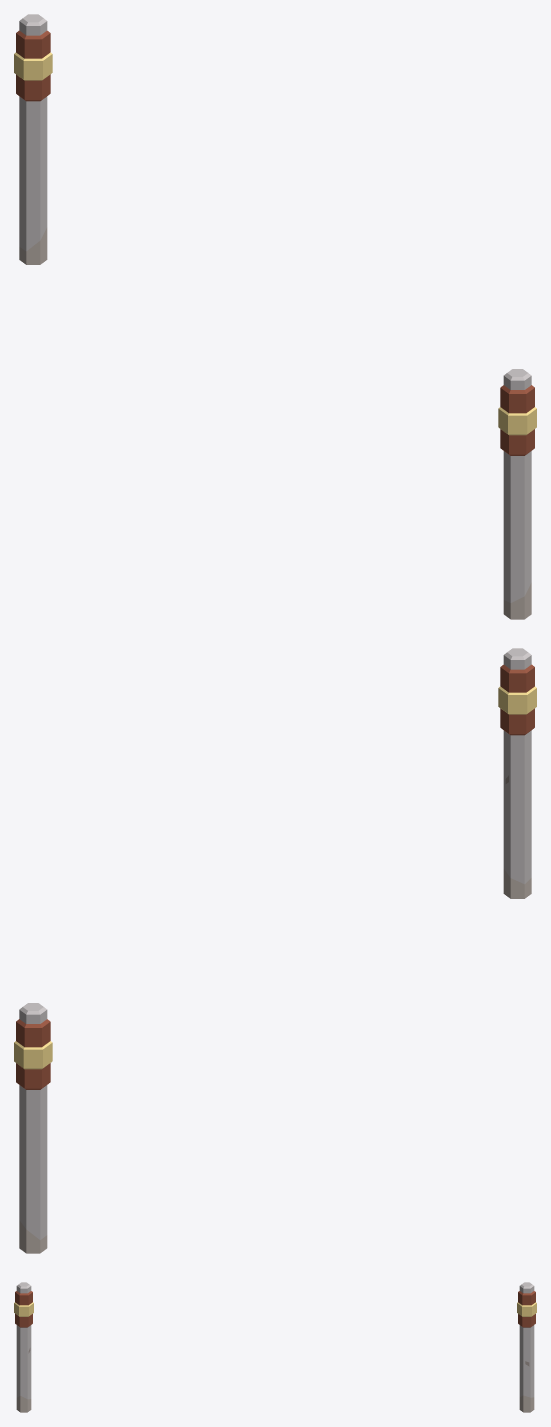
Rendered from reflector-post-run-2a7795.glb.
The picture shows the model from 3 angles, top to bottom: view 1: azimuth 30°, elevation 25°; view 2: azimuth 150°, elevation 25°; view 3: azimuth 270°, elevation 25°; orthographic projection. The views are drawn at different scales.
Visible parts, largest first — view 1: posts, reflectors; view 2: posts, reflectors; view 3: posts, reflectors.
Part boxes in pixels (bbox=[...]): posts: bbox=[19, 14, 531, 619]; reflectors: bbox=[14, 30, 536, 455]; posts: bbox=[19, 648, 531, 1253]; reflectors: bbox=[14, 664, 536, 1089]; posts: bbox=[16, 1282, 534, 1412]; reflectors: bbox=[14, 1291, 536, 1327].
Bounding box in the file's own units: 0.138 × 1.1 × 4.16.
